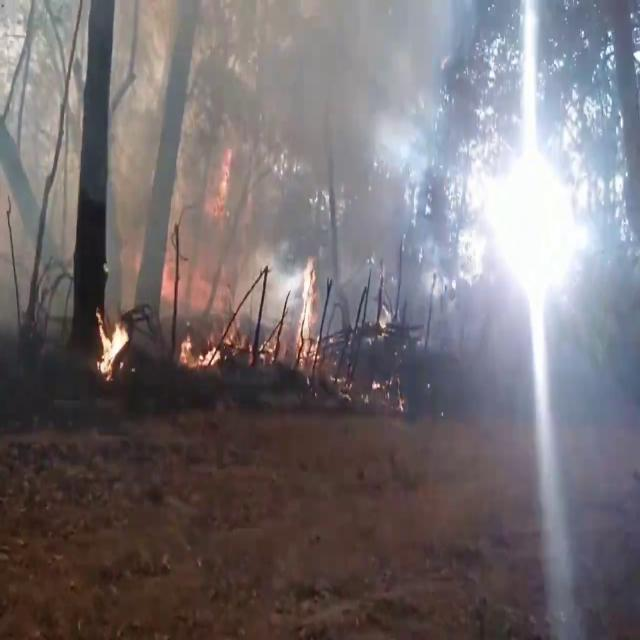Fire: (294, 248, 322, 372), (94, 301, 130, 382)
Smoke: (120, 0, 483, 316)
